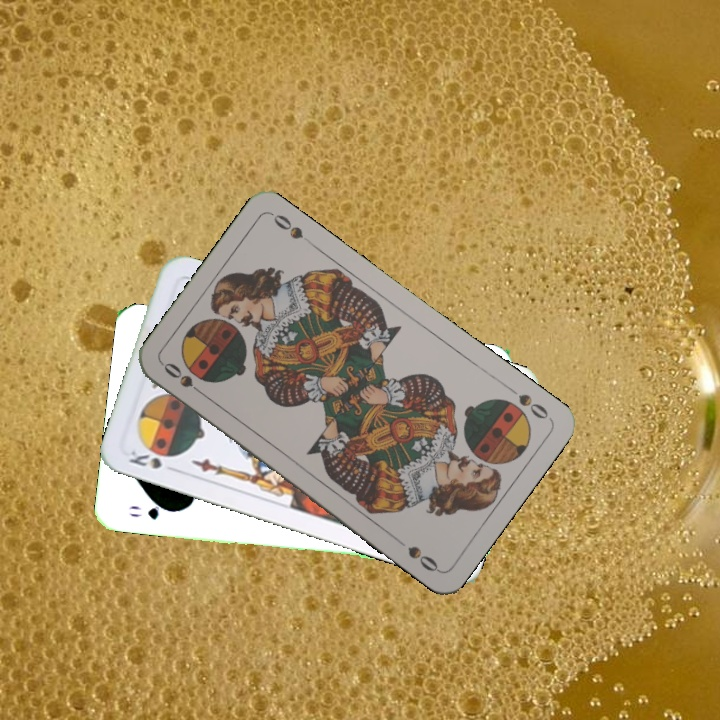GO: (124, 500, 178, 522)
SK: (123, 446, 181, 475)
SO: (159, 358, 209, 400), (502, 381, 553, 422)
